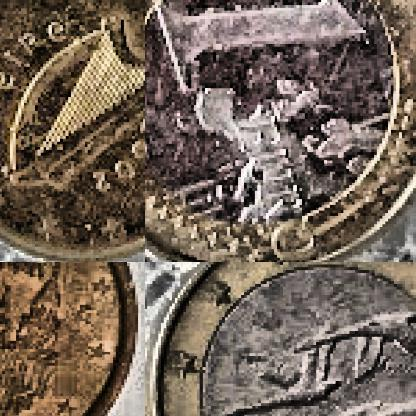coin: (145, 0, 415, 261), (145, 262, 415, 415), (0, 0, 144, 261), (0, 262, 139, 415)
